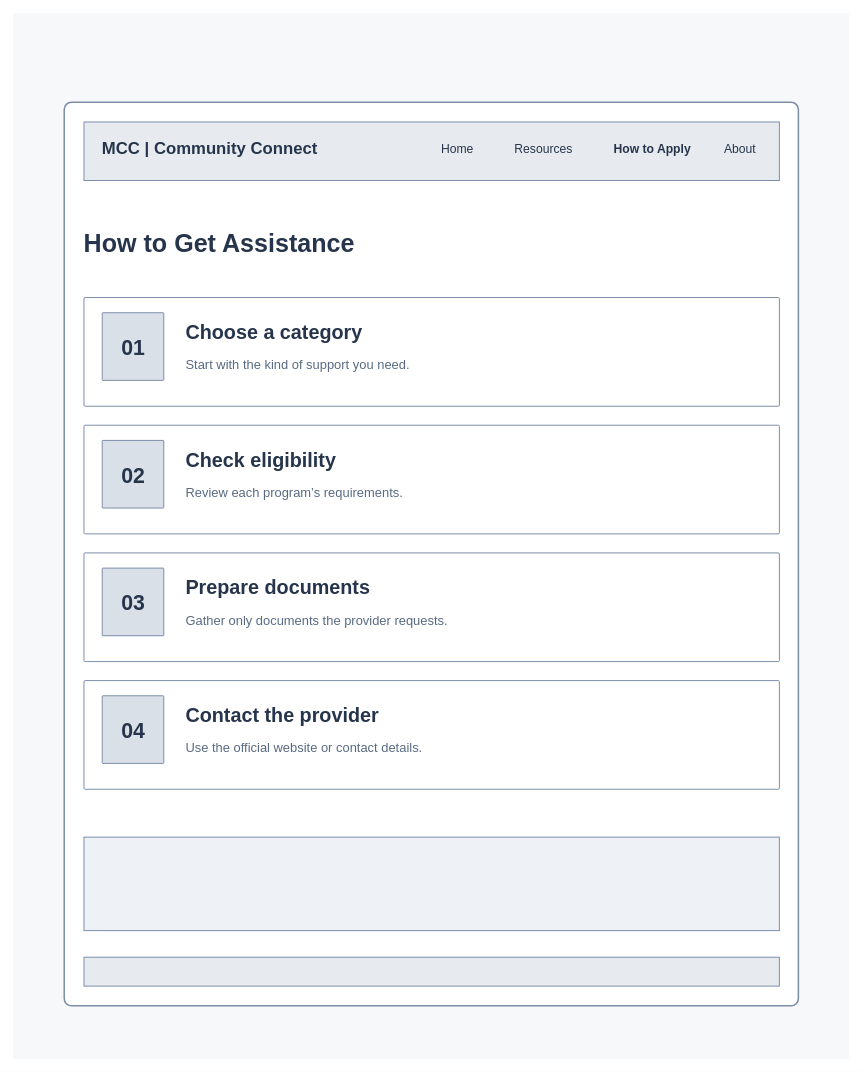
Some shapes in this 862 by 1072 pixel diagram are drawn without their labels. Here are the shapes that lost their labels. From the top down, the box of each, then its label:
(83, 836, 780, 931): Need more information?
(83, 956, 780, 986): FOOTER · NAV LINKS
